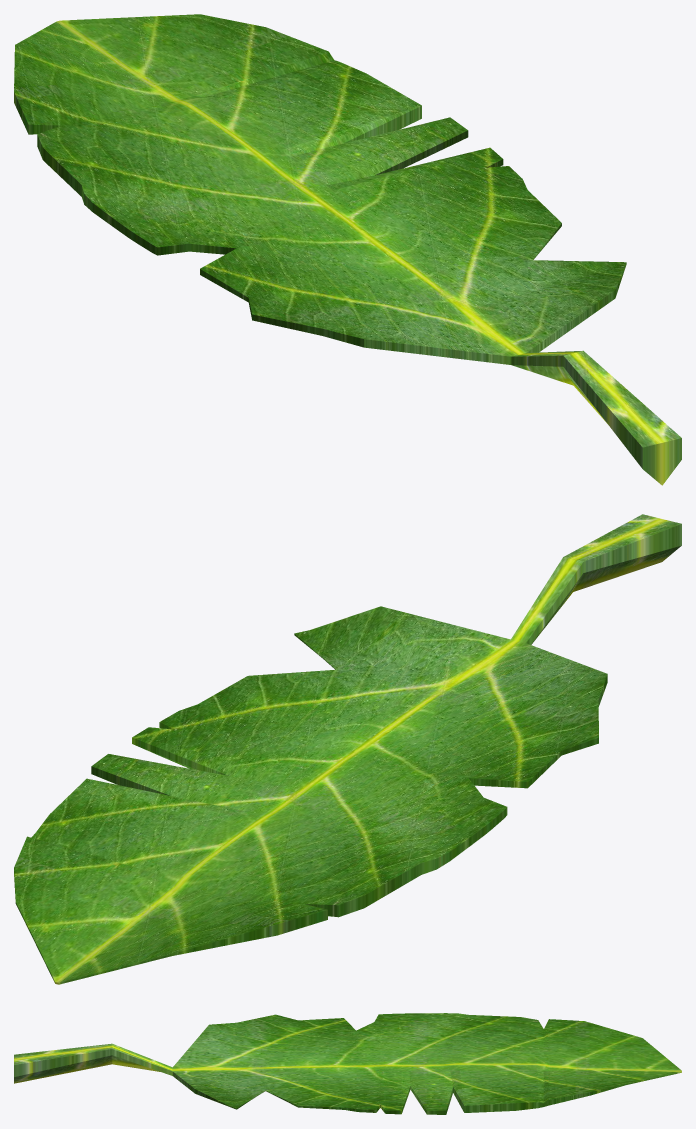
Rendered from LeafNew2.fbx.
3 renders of one model, top to bottom at view 1: azimuth 30°, elevation 25°; view 2: azimuth 150°, elevation 25°; view 3: azimuth 270°, elevation 25°, orthographic. The views are drawn at different scales.
Visible parts, largest first — view 1: Box001; view 2: Box001; view 3: Box001.
Boxes of the visible parts, left/top/right/bottom form: Box001: left=14, top=14, right=681, bottom=485; Box001: left=14, top=514, right=681, bottom=984; Box001: left=14, top=1013, right=681, bottom=1114.
Bounding box in the file's own units: 23.3 × 4.19 × 68.05.
Materials: 1 (1 with a texture image).
